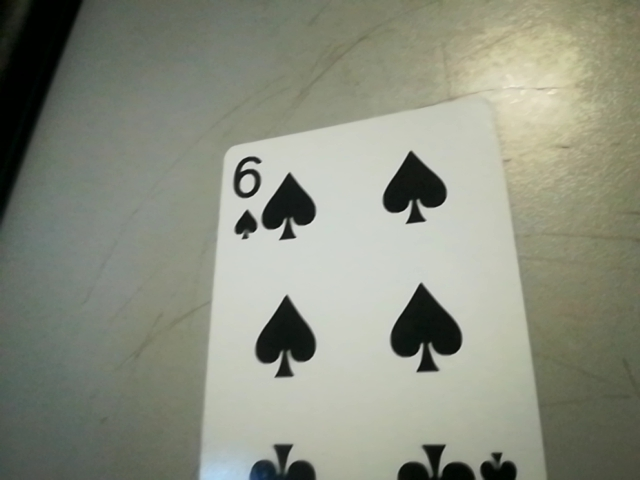ht 6: (221, 149, 274, 244)
